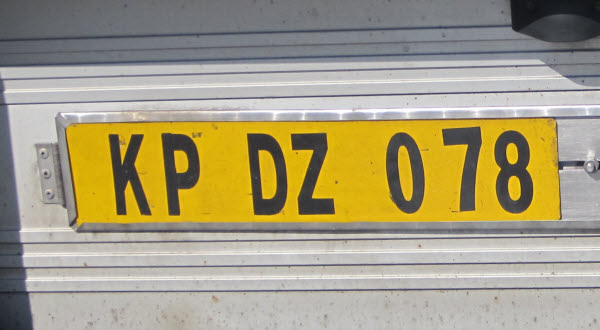license_plate: (56, 108, 563, 234)
